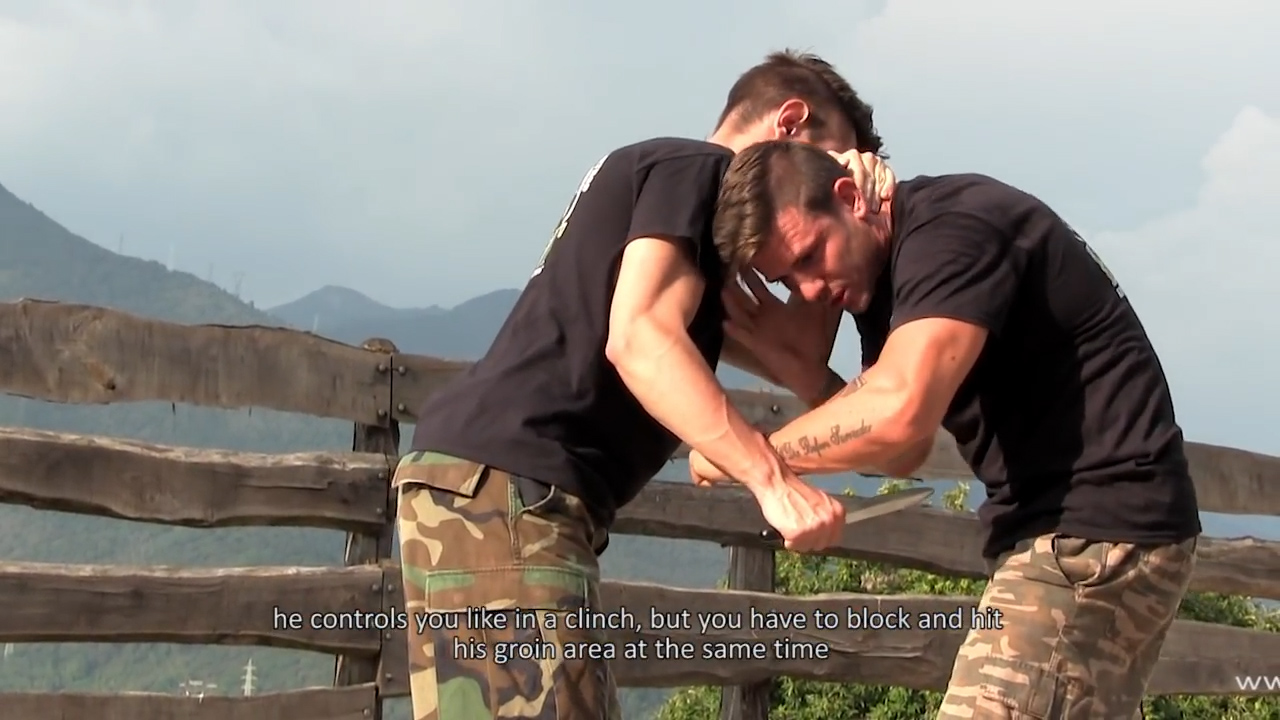knife: (756, 476, 943, 561)
